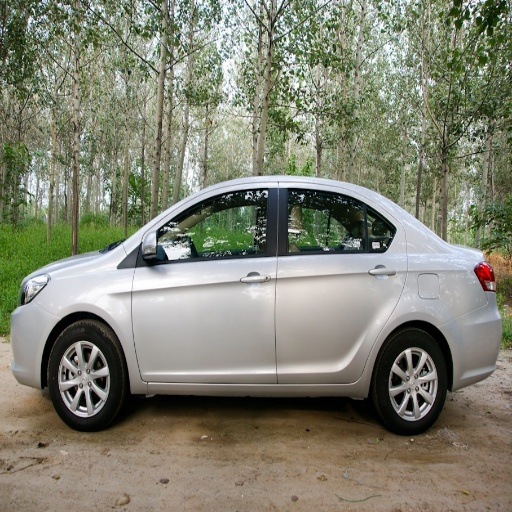back_left_door: (278, 183, 403, 382)
front_left_door: (132, 184, 277, 382)
